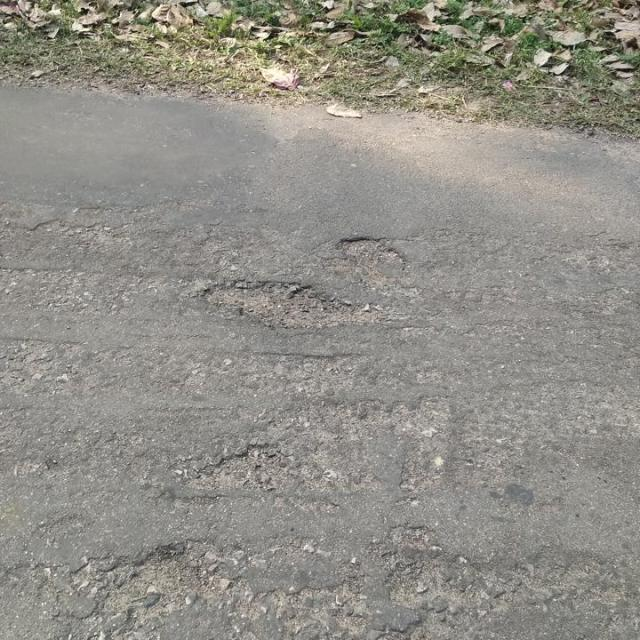pothole: (200, 277, 366, 327), (122, 539, 223, 614), (189, 440, 299, 492), (383, 558, 462, 606), (336, 232, 409, 271)
